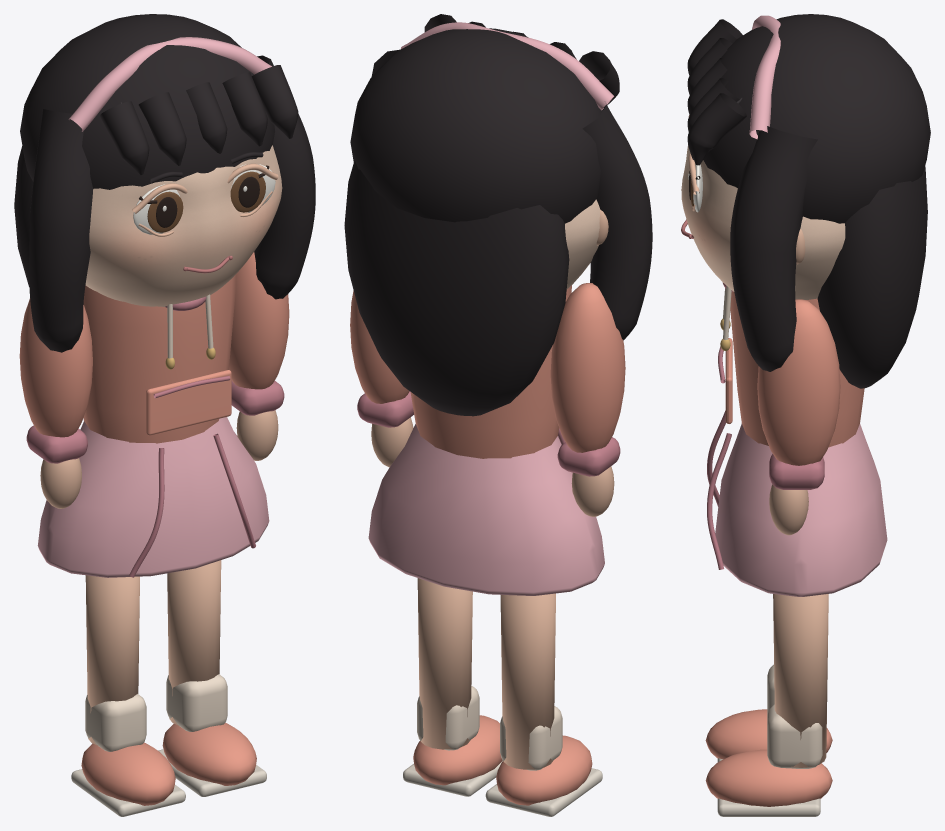
The model's file is owner_daughter.glb.
The picture shows the model from 3 angles, left to right: view 1: azimuth 30°, elevation 25°; view 2: azimuth 150°, elevation 25°; view 3: azimuth 270°, elevation 25°; orthographic projection. The views are drawn at different scales.
Visible parts, largest first — view 1: Child_pleated_skirt, Hair_base.004, Head.004, Child_hoodie, Long_child_lock_-1, Long_child_lock_1, Child_leg_-1, Child_sleeve_-1, Child_leg_1, Child_sleeve_1, Child_shoe_-1, Child_shoe_1 (+20 smaller); view 2: Hair_base.004, Long_hair_back, Child_pleated_skirt, Child_sleeve_-1, Long_child_lock_-1, Child_leg_-1, Child_leg_1, Child_hoodie, Child_shoe_-1, Child_shoe_1, Child_sleeve_1, Coral_headband (+10 smaller); view 3: Hair_base.004, Child_pleated_skirt, Long_hair_back, Long_child_lock_1, Child_sleeve_1, Child_leg_1, Head.004, Child_shoe_1, Child_hoodie, Child_sock_1, Child_shoe_-1, Soft_child_fringe.004 (+11 smaller).
Part boxes in pixels (left/top/right/bottom): Child_pleated_skirt: left=37, top=417, right=269, bottom=577; Hair_base.004: left=20, top=14, right=274, bottom=189; Head.004: left=85, top=145, right=282, bottom=306; Child_hoodie: left=83, top=274, right=236, bottom=443; Long_child_lock_-1: left=29, top=108, right=93, bottom=352; Long_child_lock_1: left=254, top=55, right=315, bottom=299; Child_leg_-1: left=85, top=575, right=139, bottom=745; Child_sleeve_-1: left=19, top=298, right=92, bottom=437; Child_leg_1: left=167, top=560, right=221, bottom=725; Child_sleeve_1: left=229, top=252, right=289, bottom=389; Child_shoe_-1: left=81, top=742, right=175, bottom=805; Child_shoe_1: left=162, top=722, right=256, bottom=785; Hair_base.004: left=350, top=28, right=603, bottom=223; Long_hair_back: left=344, top=160, right=569, bottom=416; Child_pleated_skirt: left=368, top=424, right=604, bottom=595; Child_sleeve_-1: left=550, top=283, right=625, bottom=452; Long_child_lock_-1: left=582, top=104, right=652, bottom=340; Child_leg_-1: left=500, top=593, right=555, bottom=769; Child_leg_1: left=417, top=578, right=472, bottom=749; Child_hoodie: left=410, top=285, right=571, bottom=458; Child_shoe_-1: left=496, top=735, right=592, bottom=805; Child_shoe_1: left=413, top=715, right=502, bottom=785; Child_sleeve_1: left=350, top=290, right=409, bottom=403; Coral_headband: left=401, top=22, right=614, bottom=110; Hair_base.004: left=703, top=14, right=930, bottom=223; Child_pleated_skirt: left=715, top=423, right=887, bottom=596; Long_hair_back: left=817, top=166, right=927, bottom=388; Long_child_lock_1: left=730, top=126, right=817, bottom=371; Child_sleeve_1: left=757, top=299, right=840, bottom=465; Child_leg_1: left=773, top=594, right=828, bottom=767; Head.004: left=681, top=145, right=845, bottom=299; Child_shoe_1: left=705, top=749, right=832, bottom=806; Child_hoodie: left=730, top=291, right=864, bottom=447; Child_sock_1: left=767, top=704, right=822, bottom=768; Child_shoe_-1: left=705, top=709, right=832, bottom=759; Soft_child_fringe.004: left=687, top=93, right=746, bottom=165.
Bounding box in the file's own units: 0.6741 × 1.73 × 0.5162.
15 materials, 1 textured.
